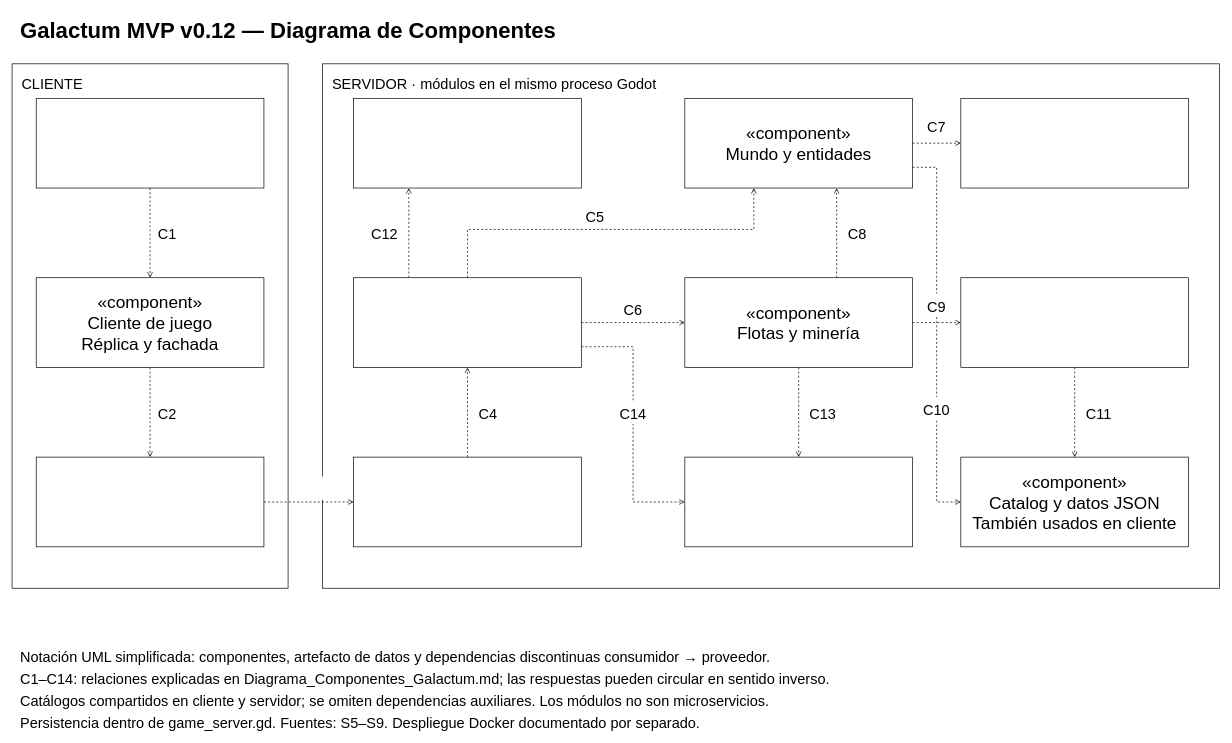
Image size: 1232x743. Some labels were removed from this diagram. The shapes that lost their labels are listed below. From the top down, each one's centre as x and y in pixels, then its label:
At point 150,143: "«component» Interfaz".
At point 467,143: "«artifact» Guardado JSON".
At point 1074,143: "«component» Índice espacial".
At point 467,322: "«component» Servidor de juego Tick, sesiones, réplica".
At point 1074,322: "«component» Resolver de combate".
At point 150,501: "«component» Enlace WebSocket".
At point 308,488: "C3".
At point 467,501: "«component» Gateway WebSocket".
At point 798,501: "«component» Economía e informes Apoyo del MVP integrado".
